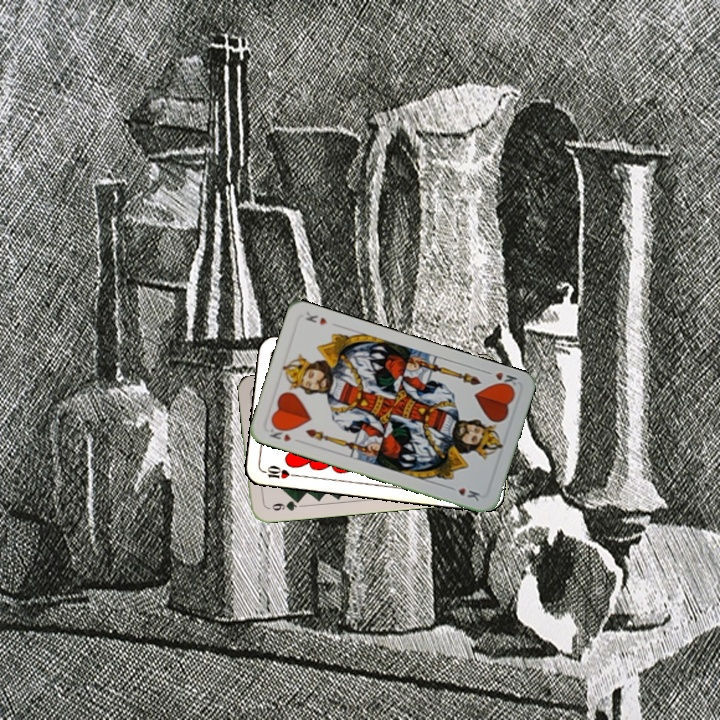G9: (263, 495, 303, 513)
H10: (259, 461, 300, 481)
HK: (481, 366, 520, 392), (265, 421, 293, 444)
